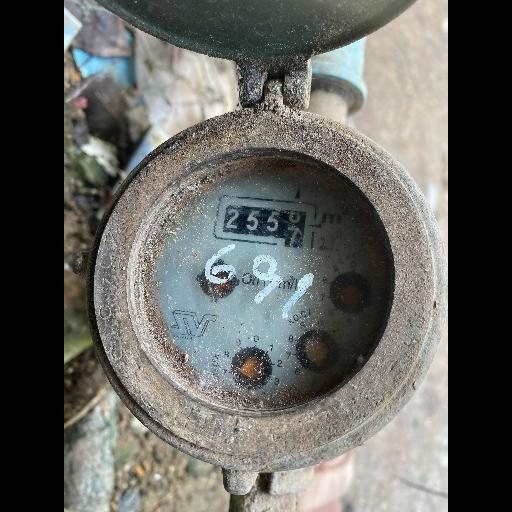2: (223, 204, 245, 234)
5: (263, 208, 288, 239), (242, 206, 265, 237)
6: (284, 210, 307, 248)
border_water_meter_number: (213, 191, 319, 251)
